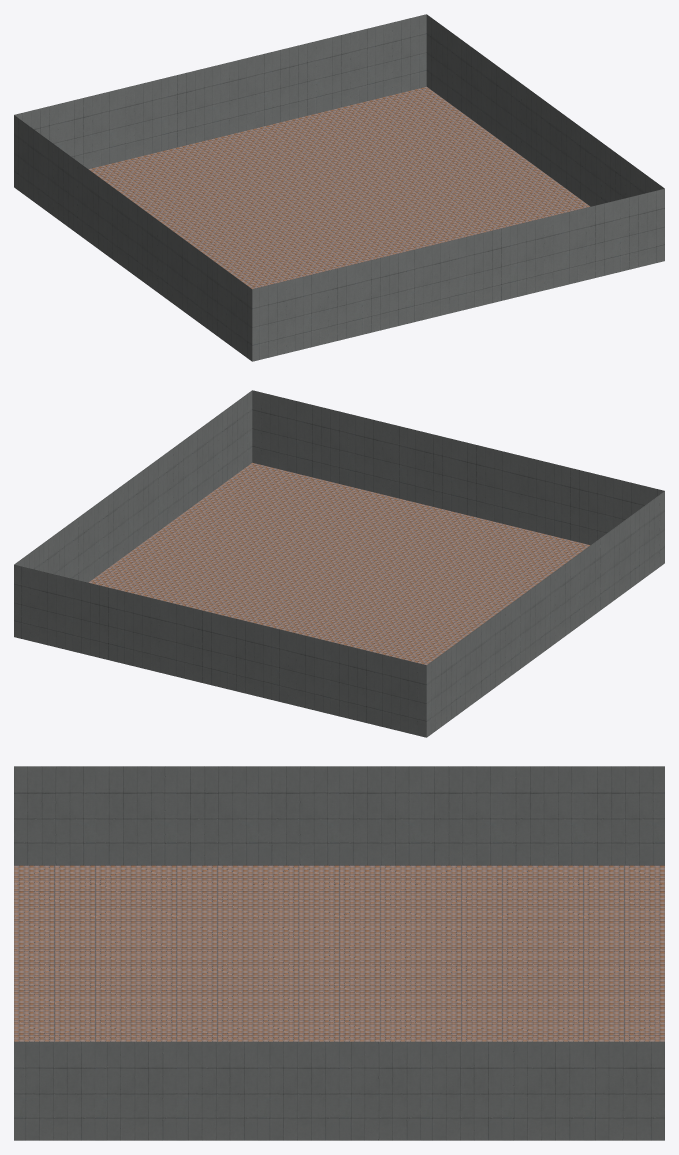
Rendered from level3.fbx.
The picture shows the model from 3 angles, top to bottom: view 1: azimuth 30°, elevation 25°; view 2: azimuth 150°, elevation 25°; view 3: azimuth 270°, elevation 25°; orthographic projection. The views are drawn at different scales.
Visible parts, largest first — view 1: pPlane2, pPlane1; view 2: pPlane2, pPlane1; view 3: pPlane2, pPlane1.
Part boxes in pixels (box(x1,y1,x2,y2)): pPlane2: box(14, 14, 664, 361); pPlane1: box(88, 86, 590, 289); pPlane2: box(14, 390, 664, 737); pPlane1: box(88, 462, 590, 665); pPlane2: box(14, 766, 664, 1140); pPlane1: box(14, 865, 664, 1041).
Size of the model in its own units: 642 by 108 by 642.
2 materials, 2 textured.
